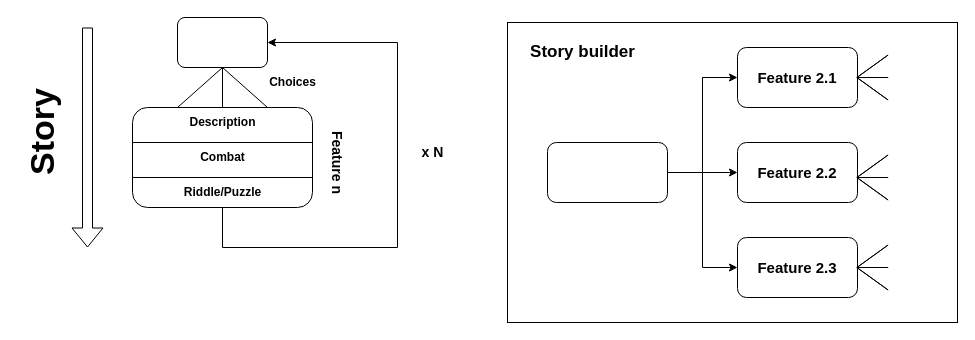
Image size: 975x340. Some labels were removed from this diagram. The shapes that lost their labels are listed below. From the top down, each one's centre as x and y in pixels, then its label:
the point at 222,42: Player
the point at 607,172: Feature 1
